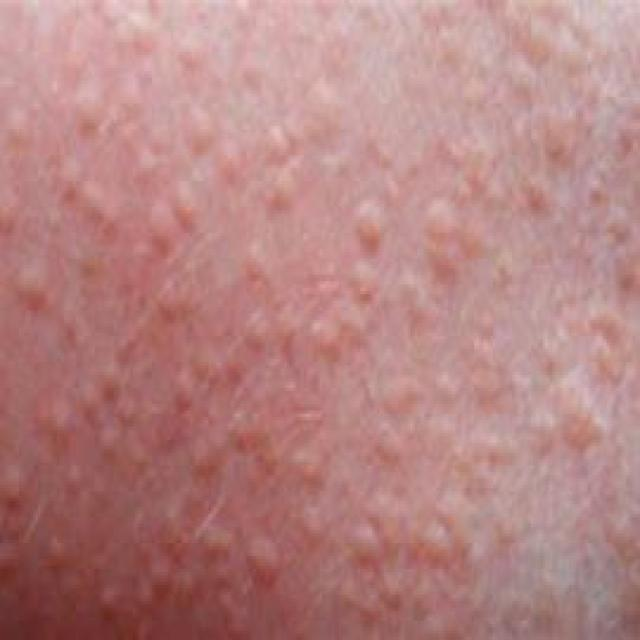fungal: (0, 18, 637, 632)
